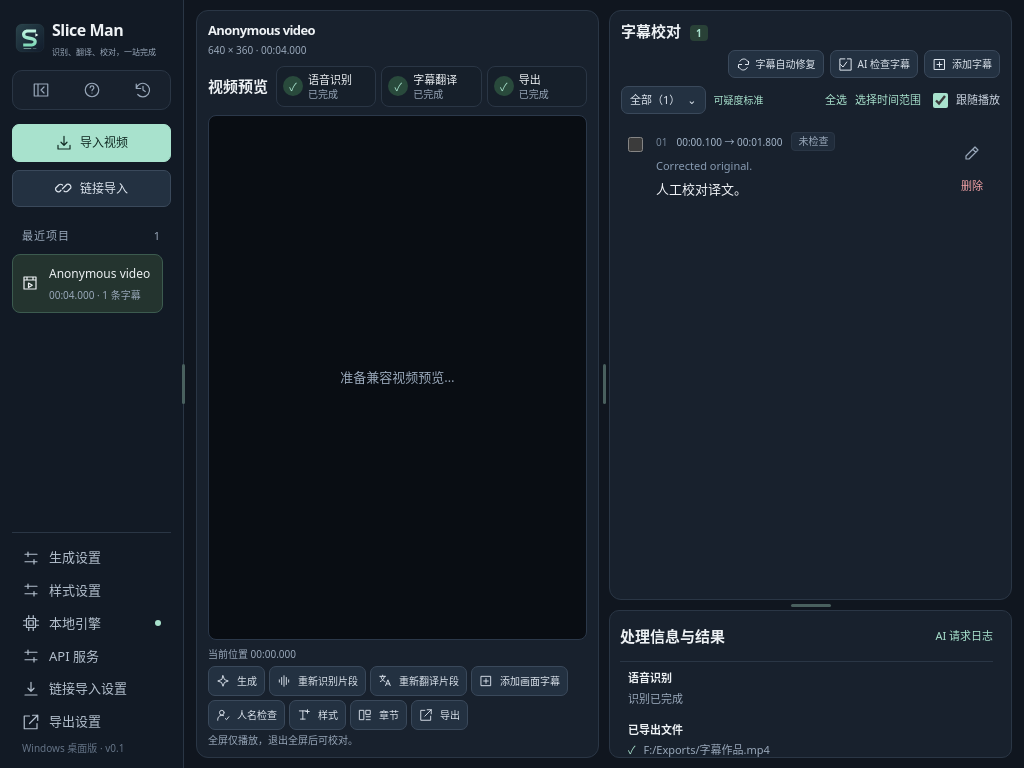
Scenario: workspace settings entry points › opens a separate operation card and groups right-side messages behind one height divider
This screenshot has width=1024, height=768.
Click the button "生成": point(236, 681) [208,666,265,696]
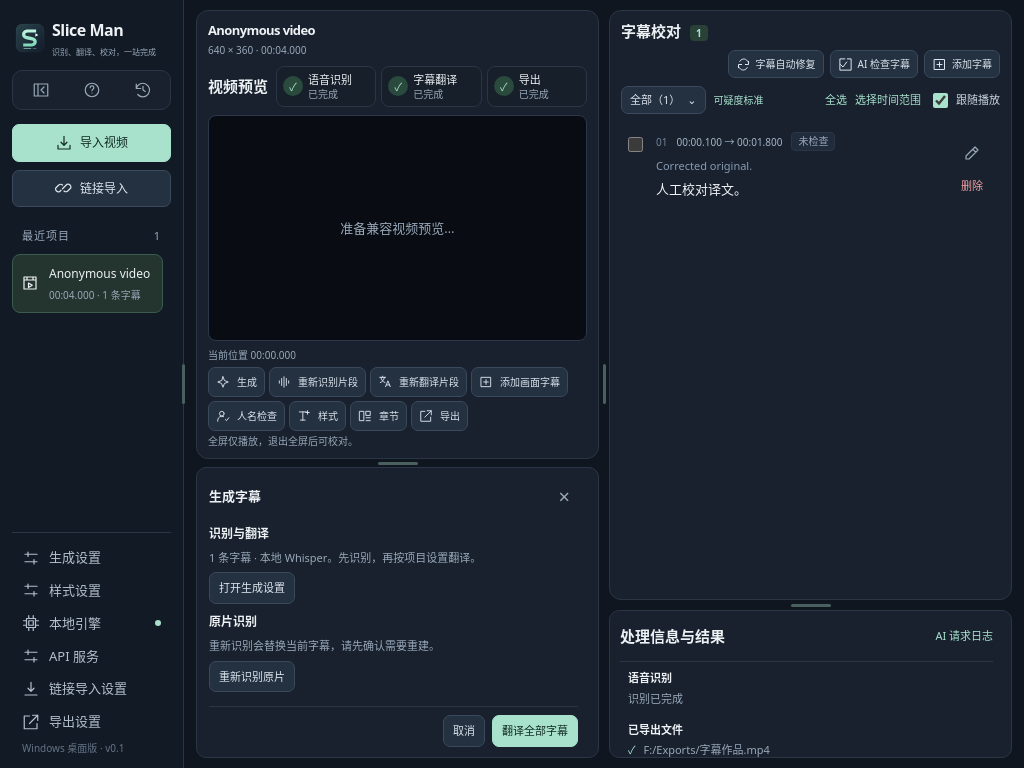
Expected: the text "识别已完成" is shown, [628,691,683,706]
Expected: the element named "生成操作面板" is shown, [196,467,599,758]
